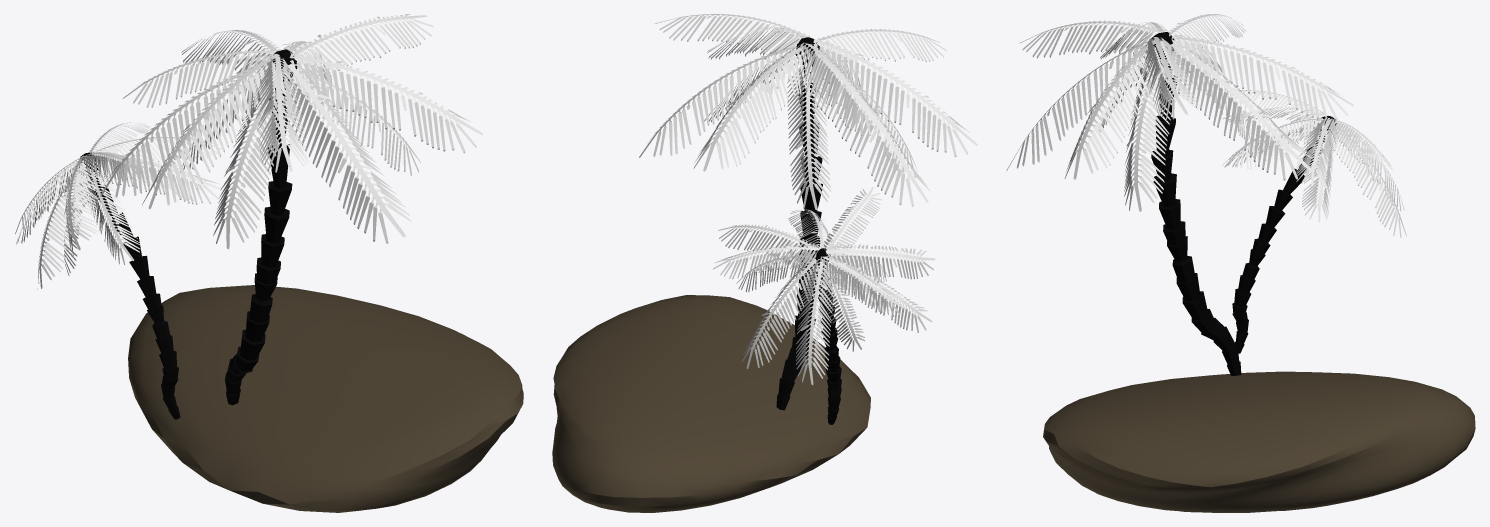
File: island.glb
The picture shows the model from 3 angles, left to right: view 1: azimuth 30°, elevation 25°; view 2: azimuth 150°, elevation 25°; view 3: azimuth 270°, elevation 25°; orthographic projection. The views are drawn at different scales.
Parts seen in each view (by area): view 1: rock, Trunk.003, Trunk.002; view 2: rock, Trunk.003, Trunk.002; view 3: rock, Trunk.003, Trunk.002.
Part boxes in pixels (<box>): rock: <box>128,285,523,512</box>; Trunk.003: <box>100,14,483,405</box>; Trunk.002: <box>15,122,225,419</box>; rock: <box>552,295,870,512</box>; Trunk.003: <box>639,14,977,410</box>; Trunk.002: <box>713,187,935,424</box>; rock: <box>1043,371,1475,512</box>; Trunk.003: <box>1006,14,1353,375</box>; Trunk.002: <box>1221,90,1406,353</box>.
Size of the model in its own units: 37.81 by 38.41 by 39.36.
